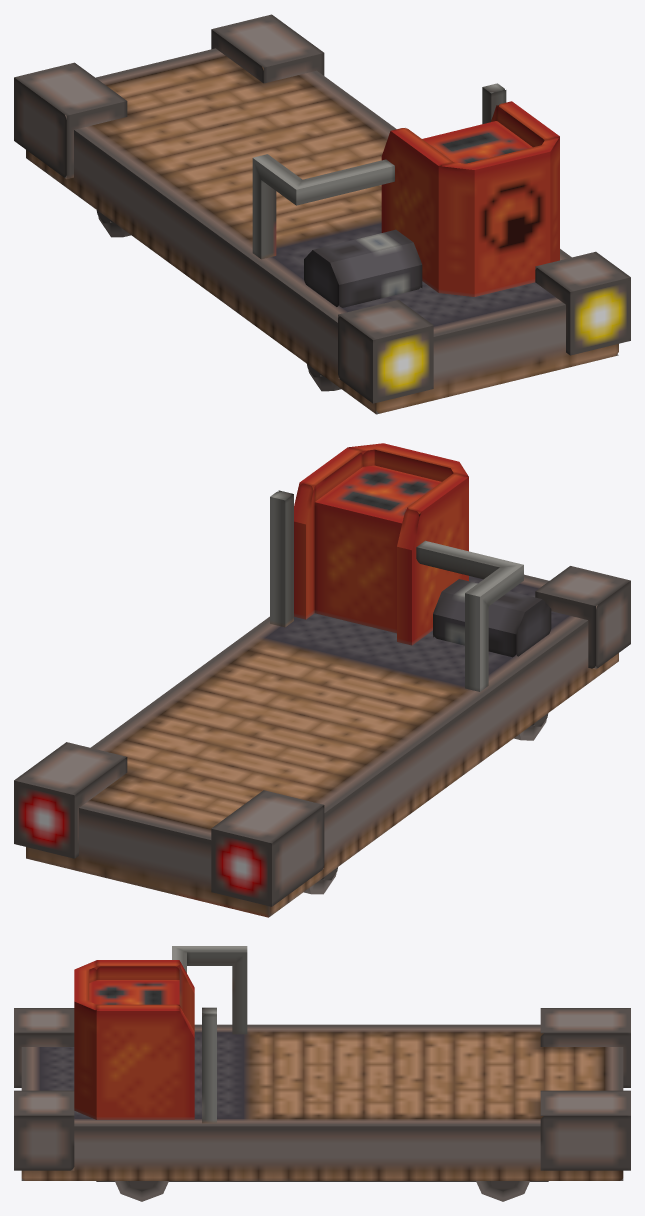
Rendered from tram.obj.
3 renders of one model, top to bottom at view 1: azimuth 30°, elevation 25°; view 2: azimuth 150°, elevation 25°; view 3: azimuth 270°, elevation 25°, orthographic. The views are drawn at different scales.
Visible parts, largest first — view 1: Plane; view 2: Plane; view 3: Plane.
Boxes of the visible parts, <box> form: Plane: <box>14,14,630,414</box>; Plane: <box>14,443,630,917</box>; Plane: <box>14,946,630,1201</box>.
Bounding box in the file's own units: 2.12 × 1.75 × 5.12.
